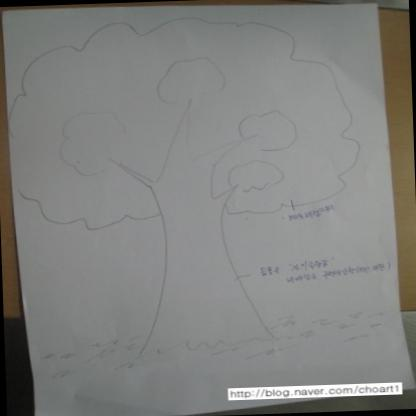branch_sharp: (94, 102, 263, 206)
crown_cloud: (6, 13, 366, 233)
root_none: (116, 305, 310, 367)
trunk_reflex: (142, 228, 259, 308)
